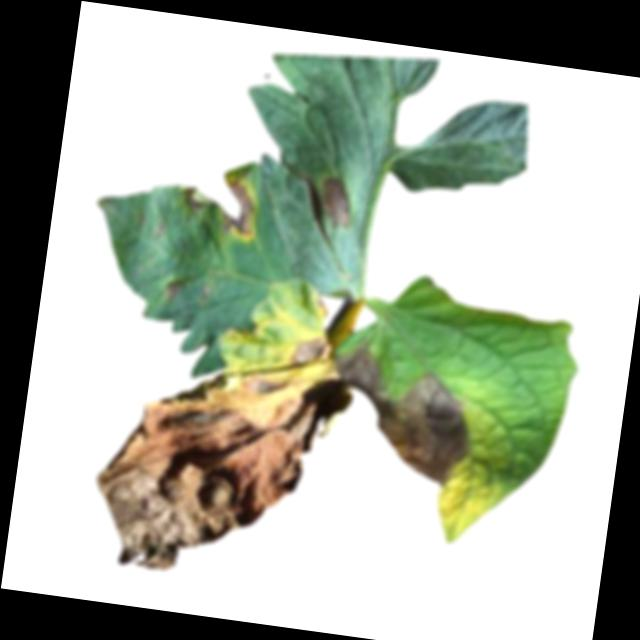Early_blight: (85, 353, 320, 589), (320, 343, 484, 489), (176, 171, 262, 243), (319, 176, 358, 228), (288, 331, 331, 367), (163, 274, 187, 299)
